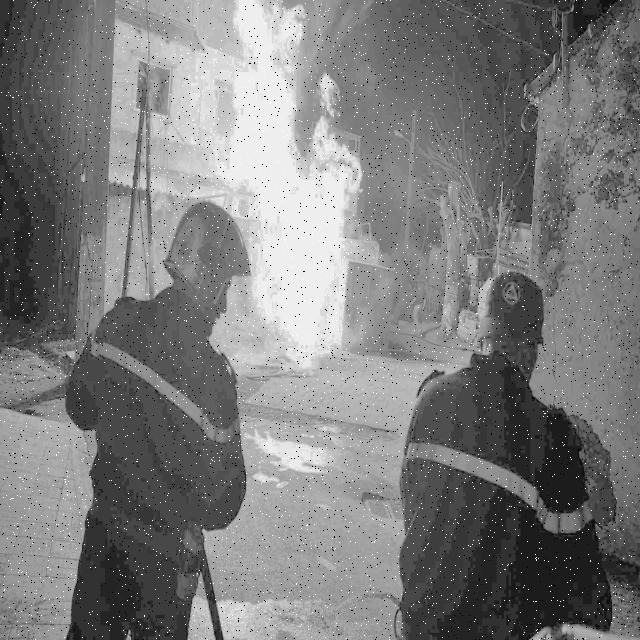api: (221, 3, 359, 363)
